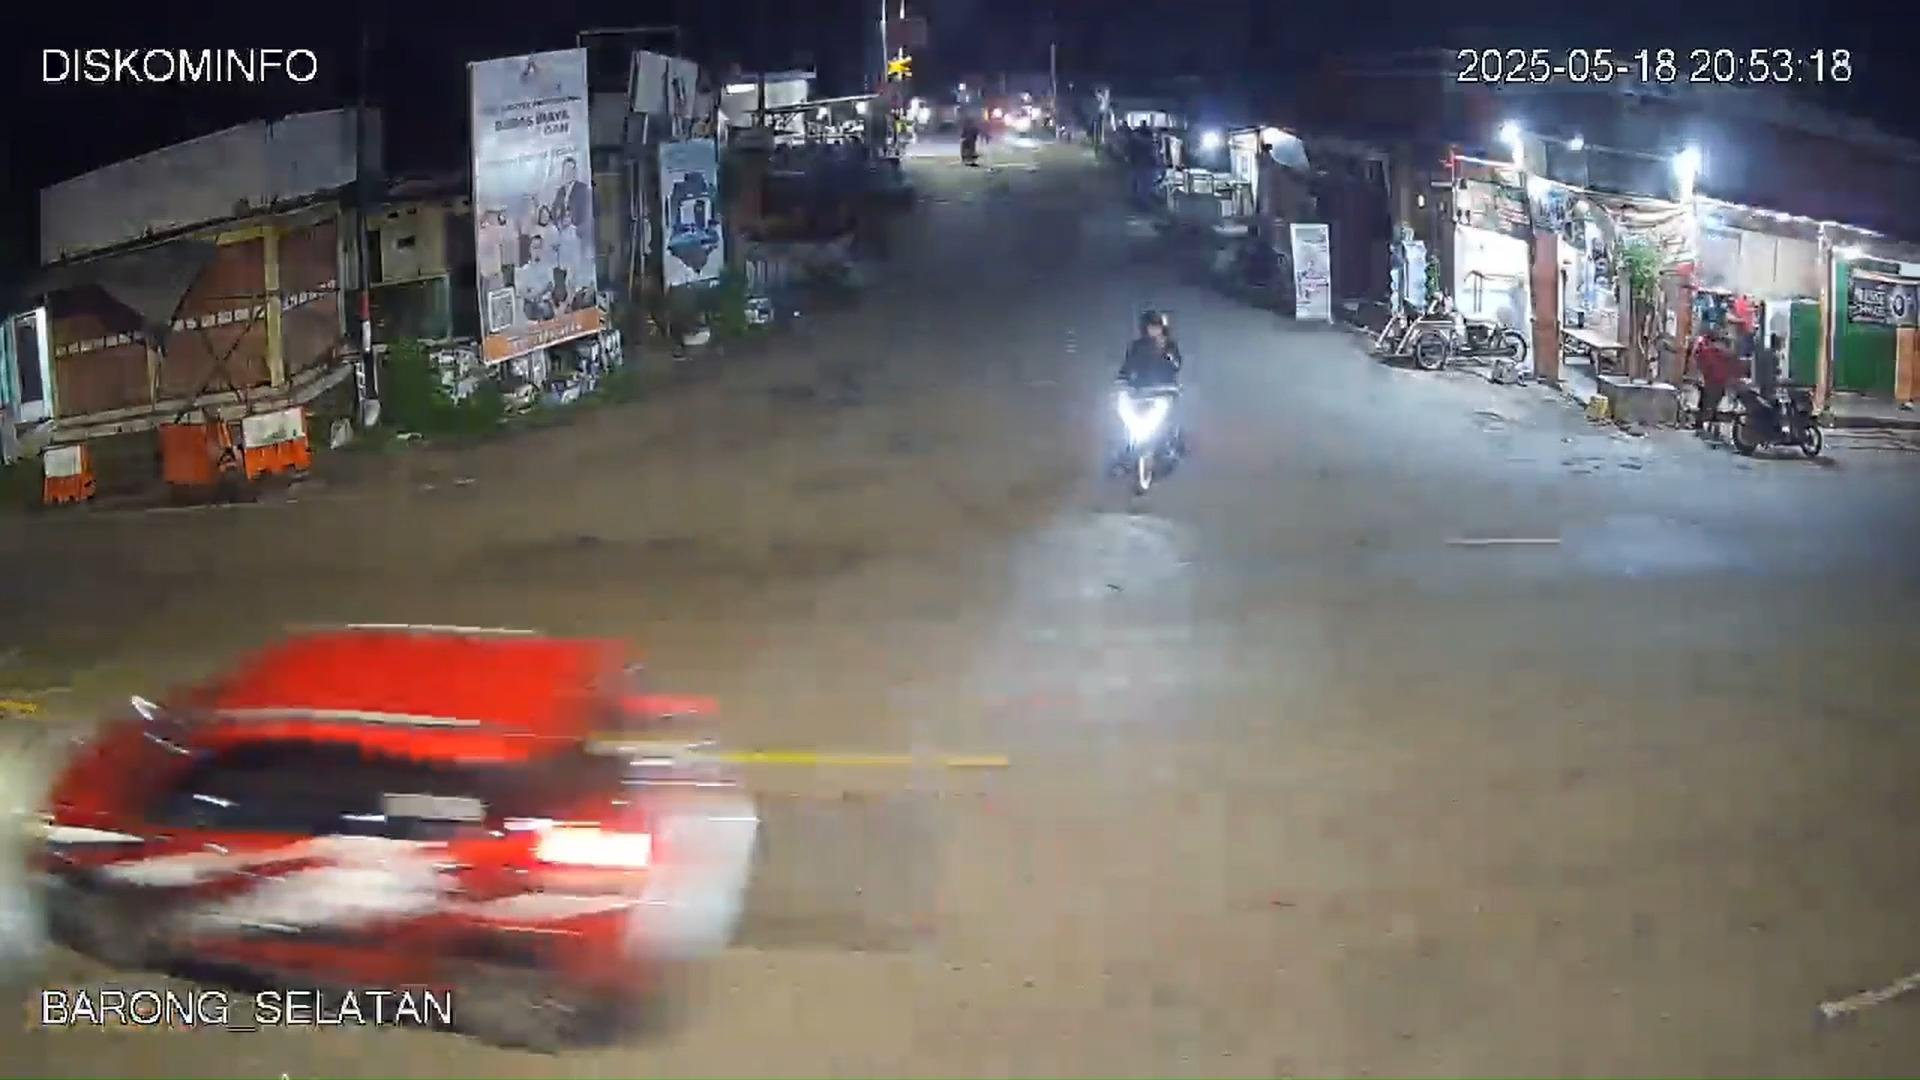Motor: (1100, 306, 1182, 496)
